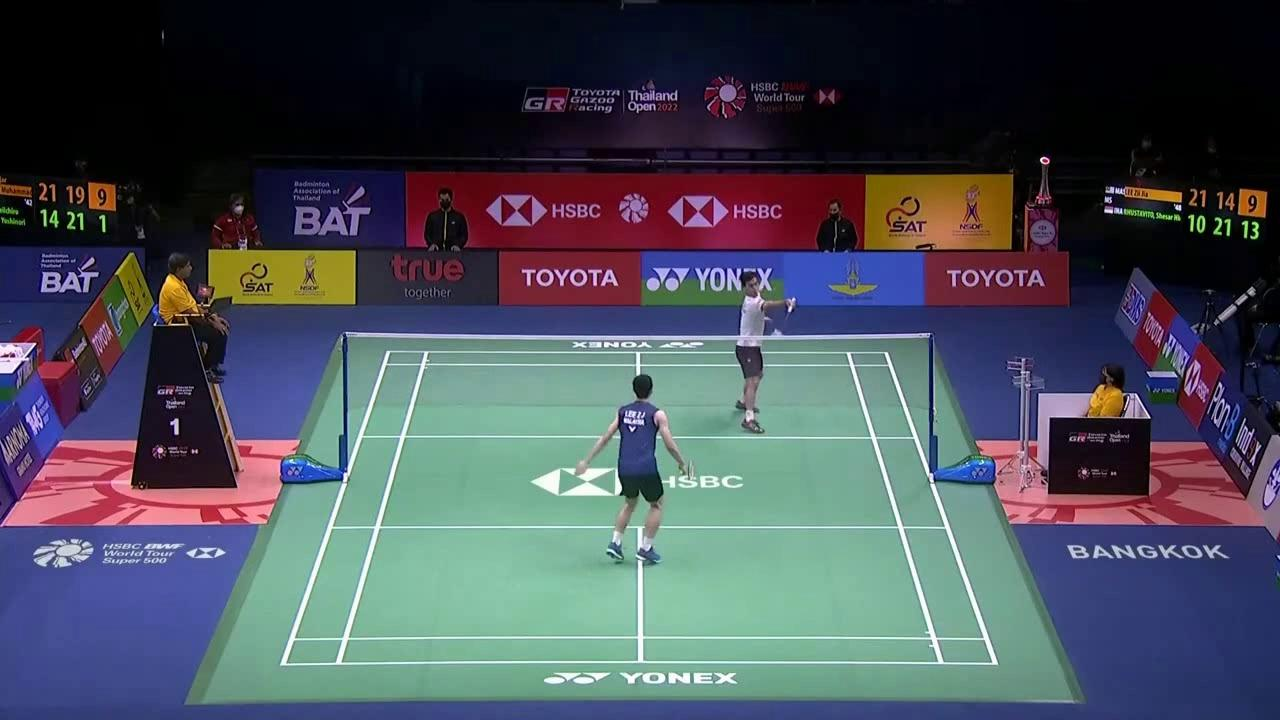racket: (774, 296, 797, 336), (678, 460, 696, 482)
shuttle: (774, 329, 780, 338)
